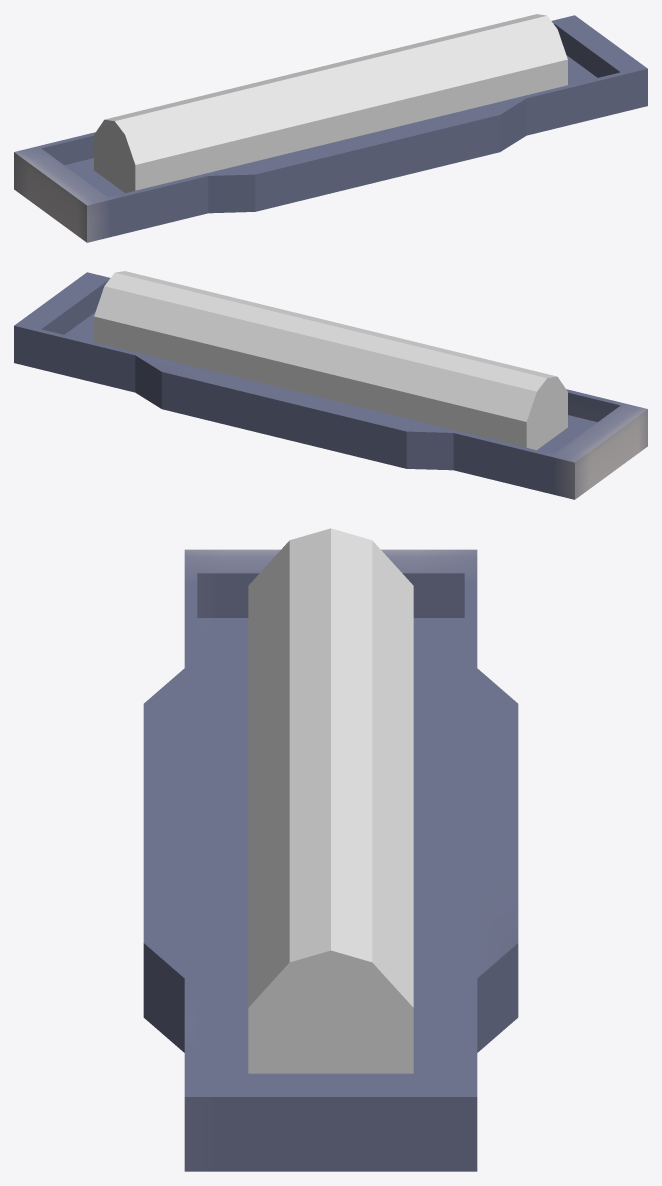
Rendered from Light.fbx.
3 renders of one model, top to bottom at view 1: azimuth 30°, elevation 25°; view 2: azimuth 150°, elevation 25°; view 3: azimuth 270°, elevation 25°, orthographic. The views are drawn at different scales.
Parts seen in each view (by area): view 1: Lamp, Base; view 2: Lamp, Base; view 3: Base, Lamp.
Part boxes in pixels (bbox=[...]): Lamp: bbox=[94, 14, 567, 193]; Base: bbox=[14, 15, 647, 242]; Lamp: bbox=[94, 271, 567, 450]; Base: bbox=[14, 272, 647, 499]; Base: bbox=[143, 549, 518, 1171]; Lamp: bbox=[248, 528, 413, 1073].
Size of the model in its own units: 15.2 by 2.05 by 4.4.
